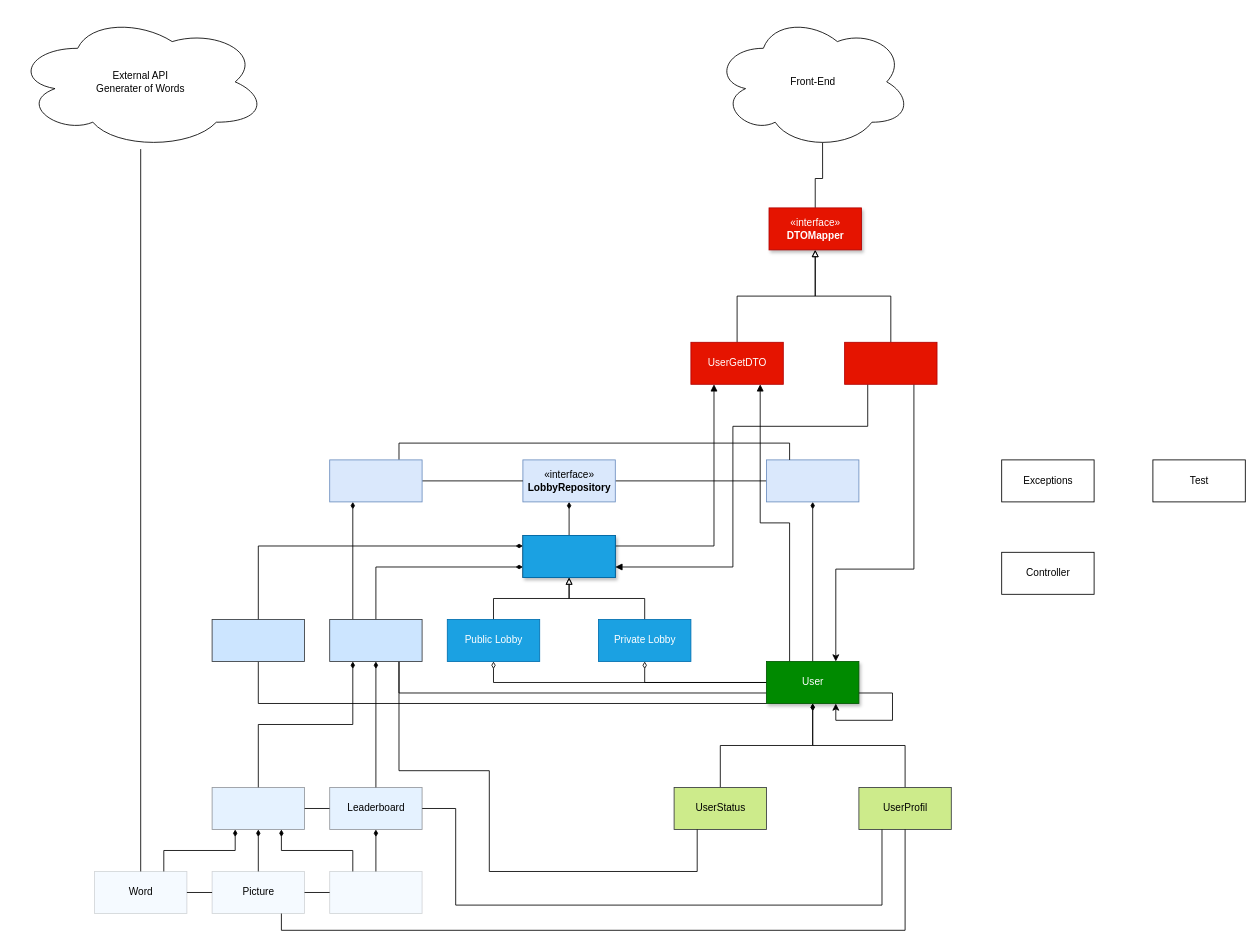
Some shapes in this 1260 by 946 pixel diagram are drawn without their labels. Here are the shapes that lost their labels. From the top down, the centre of each, then its label:
the point at 890,362: UserPostDTO
the point at 375,480: «interface» GameRepository
the point at 812,480: «interface» UserRepository
the point at 569,557: «interface» Lobby
the point at 257,640: Chat
the point at 375,640: Game
the point at 257,808: Round
the point at 375,892: Score
